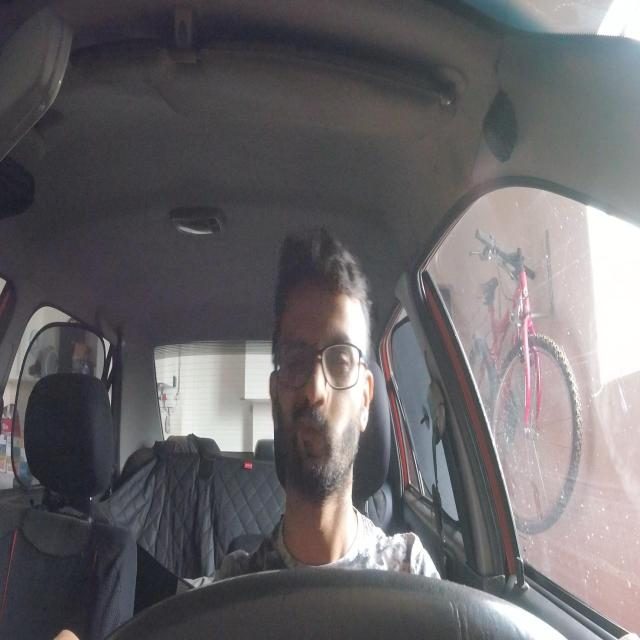close: (324, 334, 356, 391)
